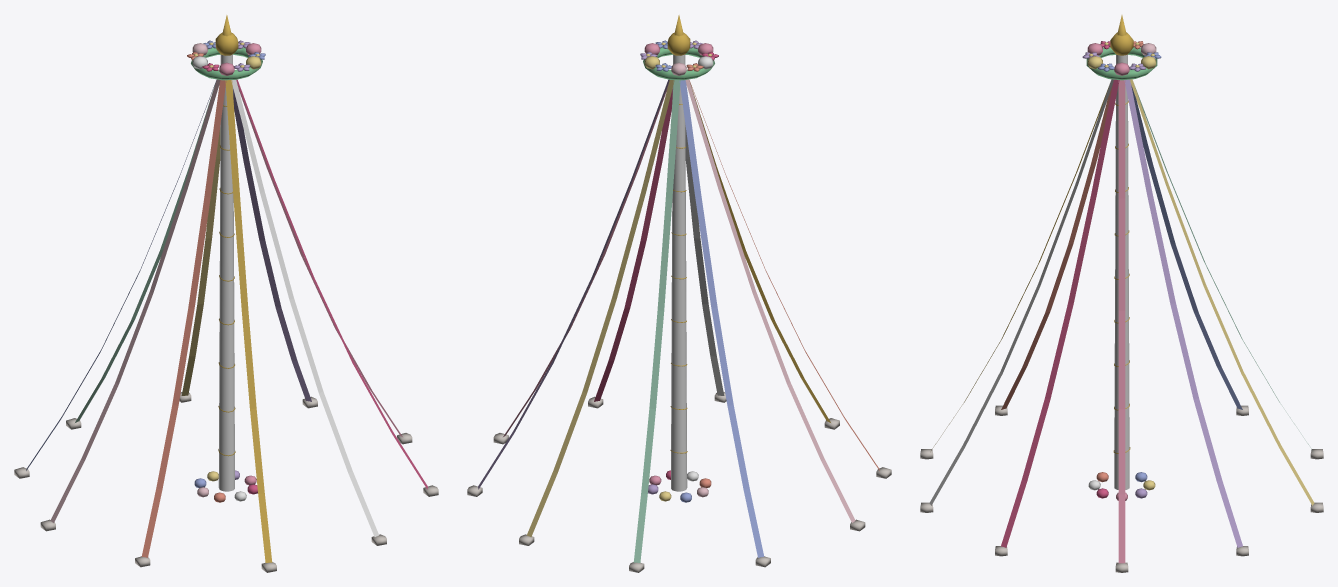
File: solstice_maypole.gltf
The picture shows the model from 3 angles, left to right: view 1: azimuth 30°, elevation 25°; view 2: azimuth 150°, elevation 25°; view 3: azimuth 270°, elevation 25°; orthographic projection.
Visible parts, largest first — view 1: solstice_maypole; view 2: solstice_maypole; view 3: solstice_maypole.
Part boxes in pixels (x1=…): solstice_maypole: x1=14, y1=15, x2=438, y2=572; solstice_maypole: x1=467, y1=15, x2=891, y2=572; solstice_maypole: x1=920, y1=15, x2=1323, y2=572.
Size of what is drawn, in the model's own units: 6.19 by 7.67 by 5.9.
